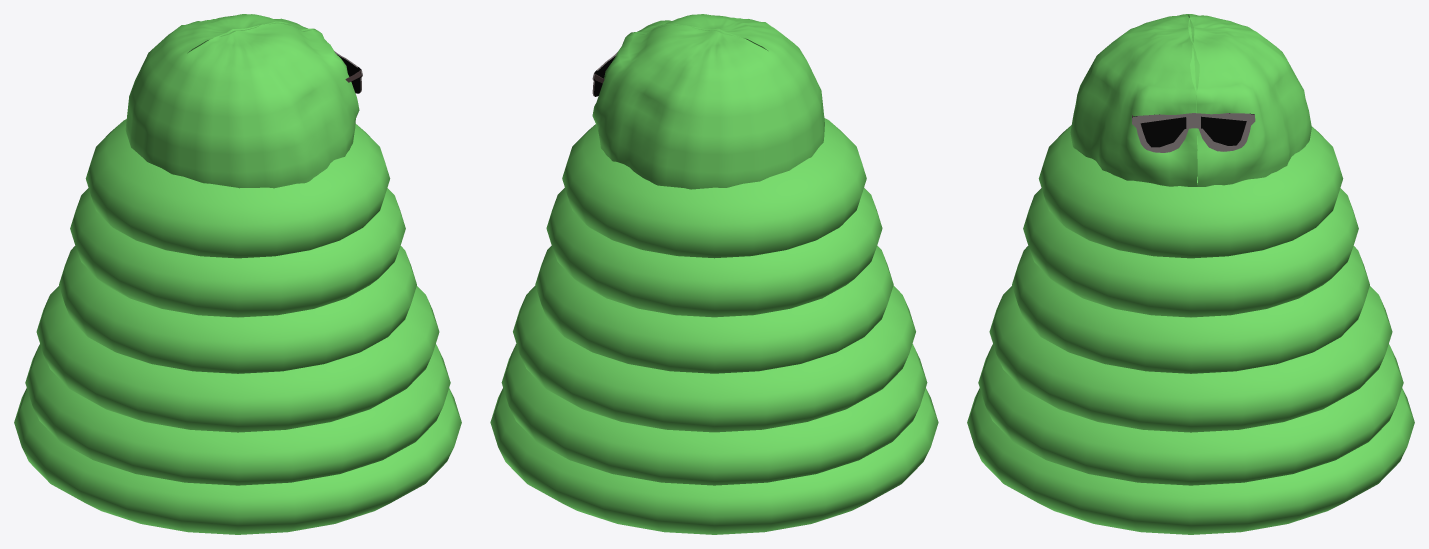
File: BlobbyBody2.fbx
The picture shows the model from 3 angles, left to right: view 1: azimuth 30°, elevation 25°; view 2: azimuth 150°, elevation 25°; view 3: azimuth 270°, elevation 25°; orthographic projection.
Parts seen in each view (by area): view 1: Sphere, Sphere_2, Sphere_1, Sphere_5, Sphere_2_2, Sphere_3, Sphere_4; view 2: Sphere, Sphere_2, Sphere_1, Sphere_5, Sphere_2_2, Sphere_3, Sphere_4; view 3: Sphere, Sphere_2, Sphere_1, Sphere_5, Sphere_2_2, Sphere_3, Sphere_4, Cube_2.
Part boxes in pixels (left/top/right/bottom): Sphere: left=125, top=14, right=359, bottom=188; Sphere_2: left=36, top=286, right=439, bottom=432; Sphere_1: left=25, top=344, right=450, bottom=485; Sphere_5: left=85, top=119, right=390, bottom=258; Sphere_2_2: left=14, top=388, right=461, bottom=534; Sphere_3: left=59, top=246, right=416, bottom=373; Sphere_4: left=70, top=188, right=405, bottom=317; Sphere: left=592, top=14, right=824, bottom=189; Sphere_2: left=513, top=285, right=915, bottom=432; Sphere_1: left=501, top=344, right=927, bottom=485; Sphere_5: left=562, top=118, right=866, bottom=258; Sphere_2_2: left=490, top=388, right=938, bottom=534; Sphere_3: left=535, top=245, right=893, bottom=373; Sphere_4: left=546, top=188, right=882, bottom=317; Sphere: left=1070, top=14, right=1311, bottom=186; Sphere_2: left=989, top=286, right=1392, bottom=432; Sphere_1: left=978, top=344, right=1403, bottom=485; Sphere_5: left=1038, top=95, right=1343, bottom=258; Sphere_2_2: left=967, top=388, right=1414, bottom=534; Sphere_3: left=1012, top=246, right=1369, bottom=373; Sphere_4: left=1023, top=188, right=1358, bottom=317; Cube_2: left=1132, top=113, right=1255, bottom=152.
Size of the model in its own units: 200 by 224 by 200.
